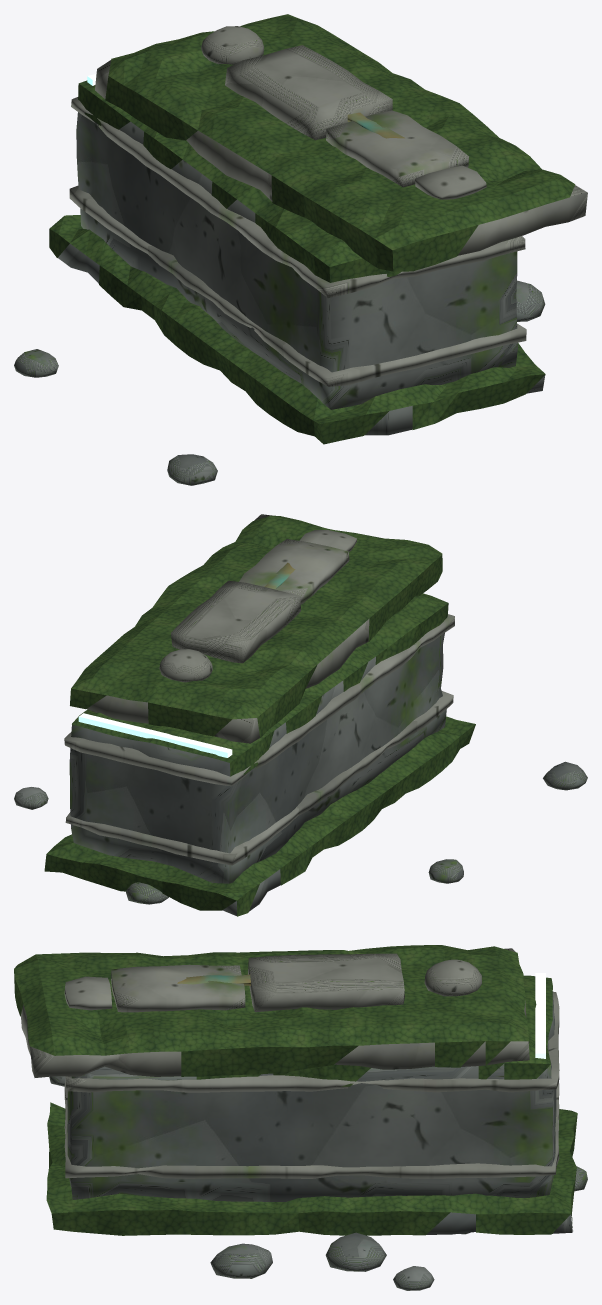
Rendered from ancient_sarcophagus.glb.
3 views of the same model, one above another, from view 1: azimuth 30°, elevation 25°; view 2: azimuth 150°, elevation 25°; view 3: azimuth 270°, elevation 25° (orthographic). The views are drawn at different scales.
Parts seen in each view (by area): view 1: ancient_sarcophagus__moss, ancient_sarcophagus__stone_block, ancient_sarcophagus__stone_pale, ancient_sarcophagus__stone_dark; view 2: ancient_sarcophagus__moss, ancient_sarcophagus__stone_block, ancient_sarcophagus__stone_pale, ancient_sarcophagus__glow_core, ancient_sarcophagus__stone_dark; view 3: ancient_sarcophagus__moss, ancient_sarcophagus__stone_block, ancient_sarcophagus__stone_pale, ancient_sarcophagus__stone_dark, ancient_sarcophagus__glow_core, ancient_sarcophagus__bronze.
Part boxes in pixels (x1,y1,x2,y2): ancient_sarcophagus__moss: (49,14,575,444); ancient_sarcophagus__stone_block: (14,112,545,485); ancient_sarcophagus__stone_pale: (69,26,587,386); ancient_sarcophagus__stone_dark: (58,244,545,435); ancient_sarcophagus__moss: (44,515,475,916); ancient_sarcophagus__stone_block: (14,633,587,904); ancient_sarcophagus__stone_pale: (64,514,454,865); ancient_sarcophagus__glow_core: (78,713,232,757); ancient_sarcophagus__stone_dark: (222,869,280,915); ancient_sarcophagus__moss: (14,945,577,1235); ancient_sarcophagus__stone_block: (49,991,587,1290); ancient_sarcophagus__stone_pale: (20,948,559,1178); ancient_sarcophagus__stone_dark: (426,1212,572,1234); ancient_sarcophagus__glow_core: (535,973,545,1058); ancient_sarcophagus__bronze: (177,974,250,985).
Size of the model in its own units: 2.53 by 1.18 by 2.71.
Materials: 6 (5 with a texture image).
